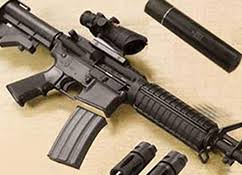Gun: (3, 1, 242, 173)
